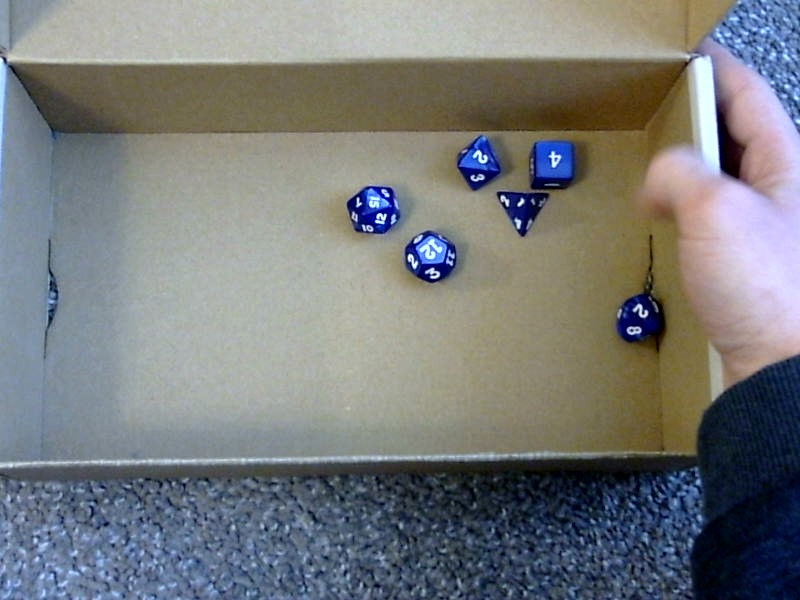d10 2: (610, 284, 670, 348)
d12 12: (400, 228, 459, 285)
d20 15: (343, 179, 401, 235)
d4 1: (495, 189, 550, 239)
d6 4: (525, 133, 575, 190)
d8 2: (453, 131, 499, 193)
